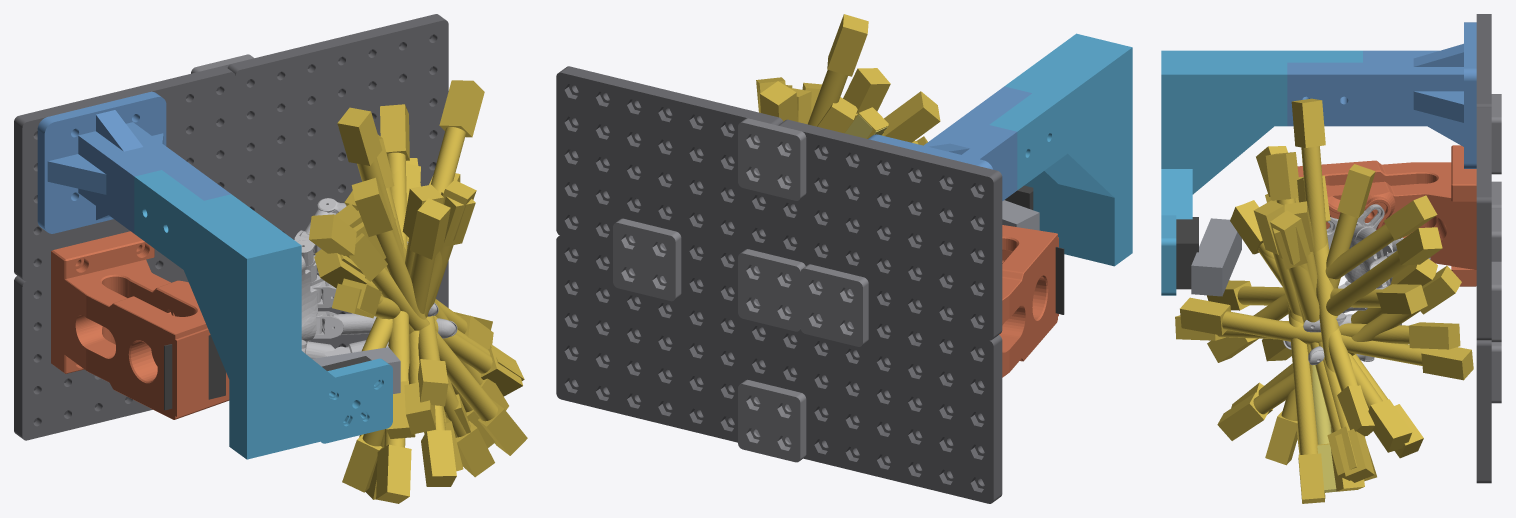
File: assembly_with_pen_sweep.glb
3 renders of one model, left to right at view 1: azimuth 30°, elevation 25°; view 2: azimuth 150°, elevation 25°; view 3: azimuth 270°, elevation 25°, orthographic. The views are drawn at different scales.
Visible parts, largest first — view 1: column_top, tile3, wuji_jig, column_base, tile2, tile0, wuji_hand2, pen_sweep_08, pen_sweep_15, pen_sweep_22, pen_sweep_13, pen_sweep_01 (+21 smaller); view 2: tile2, tile0, tile3, tile1, column_top, wuji_jig, column_base, splice2, splice1, splice4, splice3, splice0 (+7 smaller); view 3: column_top, column_base, wuji_jig, pen_sweep_03, pen_sweep_15, pen_sweep_04, pen_sweep_18, tile3, pen_sweep_13, pen_sweep_08, pen_sweep_14, pen_sweep_17 (+23 smaller).
Boxes of the visible parts, x1,y1,x2,y2 form: column_top: (134,170,392,459); tile3: (227,14,448,221); wuji_jig: (51,231,229,419); column_base: (37,91,230,233); tile2: (14,66,235,281); tile0: (14,250,188,440); wuji_hand2: (294,198,457,358); pen_sweep_08: (349,233,527,455); pen_sweep_15: (380,104,415,438); pen_sweep_22: (351,177,470,437); pen_sweep_13: (388,80,484,346); pen_sweep_01: (314,251,522,396); tile2: (775,119,1002,340); tile0: (775,306,1002,503); tile3: (556,66,783,278); tile1: (556,235,774,442); column_top: (989,33,1132,266); wuji_jig: (999,225,1058,377); column_base: (868,86,1031,200); splice2: (613,218,681,301); splice1: (800,264,868,346); splice4: (738,118,806,200); splice3: (738,379,806,462); splice0: (738,249,805,331); column_top: (1161,50,1362,295); column_base: (1287,22,1476,168); wuji_jig: (1297,145,1476,286); pen_sweep_03: (1180,297,1473,380); pen_sweep_15: (1207,195,1437,362); pen_sweep_04: (1217,265,1461,440); pen_sweep_18: (1265,164,1375,465); tile3: (1476,107,1491,340); pen_sweep_13: (1262,227,1442,361); pen_sweep_08: (1287,301,1324,503); pen_sweep_14: (1291,98,1327,254); pen_sweep_17: (1207,280,1427,314).
Bounding box in the file's own units: 355 × 320 × 270.
